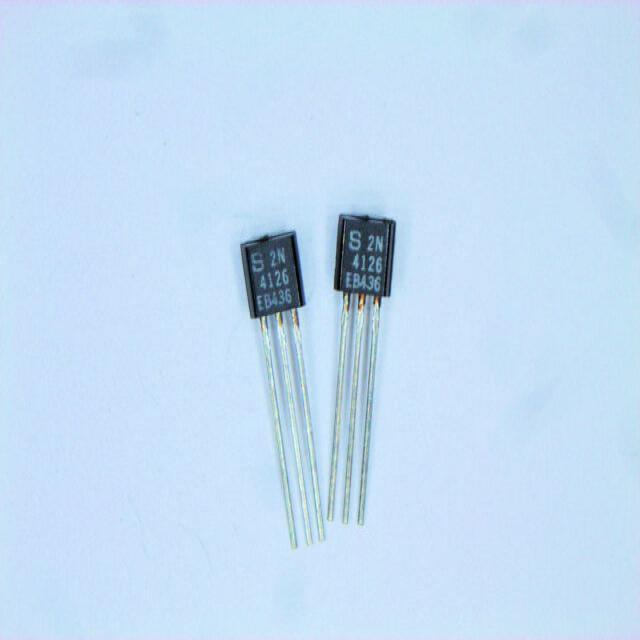Transistor: (225, 218, 337, 560), (333, 202, 409, 539)
